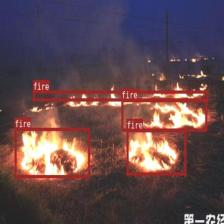fire: (14, 127, 90, 178), (126, 128, 186, 174), (121, 99, 207, 130), (33, 90, 208, 100)
